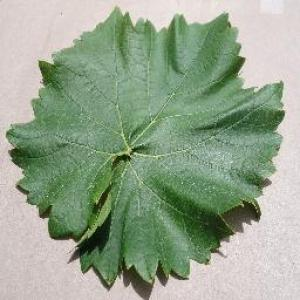Folha: (5, 5, 284, 290)
